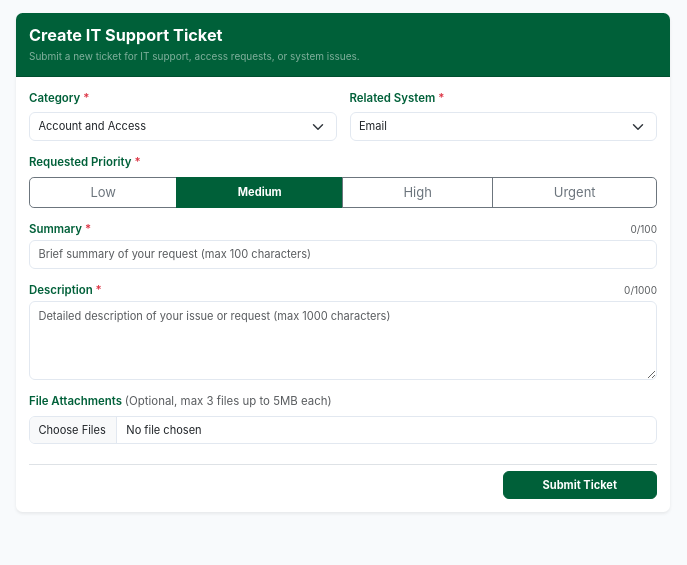
Test: Lab 02 - CreateTicketForm Component & Integration Suite › validates summary and description required fields inline
Check: the field with test id "summary-input" is shown, box [29,240,657,269]
Leave summary and description blank and submit
Click the button with test id "submit-ticket-btn". click: click(580, 485)
box: [502,472,657,499]
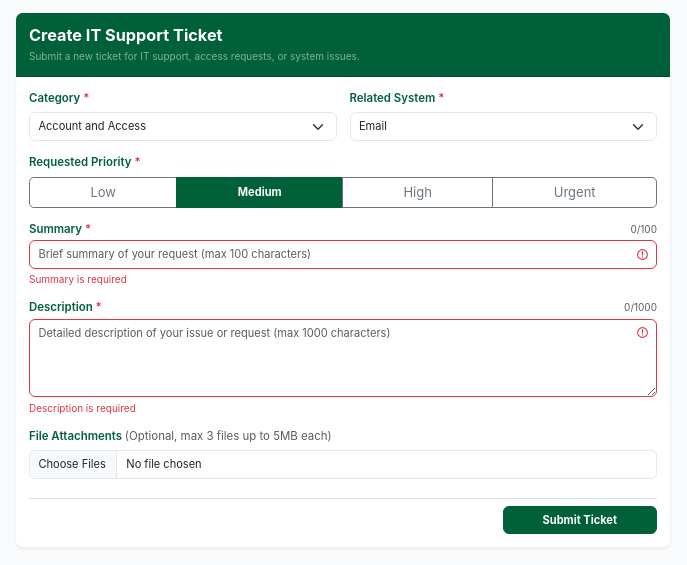
Check: the text "Summary is required" is shown, box [29,273,127,285]
Check: the text "Description is required" is shown, box [29,402,136,414]
